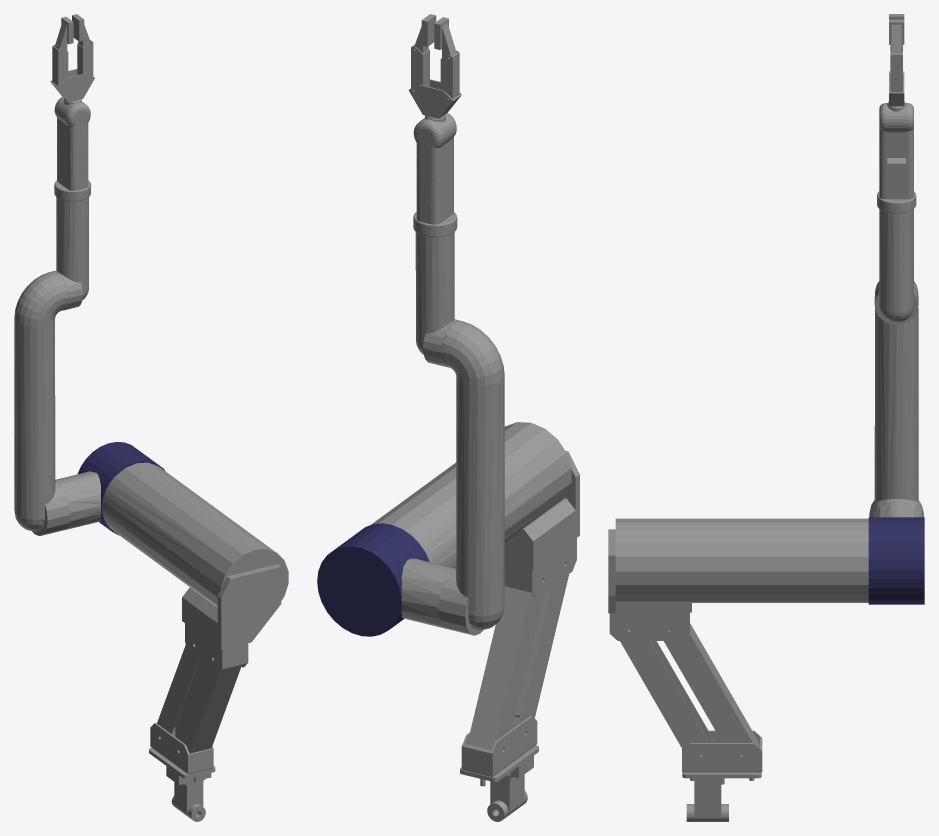
Rendered from exactdynamics-manusarmleft.dae.
The picture shows the model from 3 angles, left to right: view 1: azimuth 30°, elevation 25°; view 2: azimuth 150°, elevation 25°; view 3: azimuth 270°, elevation 25°; orthographic projection. The views are drawn at different scales.
Visible parts, largest first — view 1: left-arm1 (×2), l-lift-arm, left-arm2, left-arm3, left-arm4, left-hand-base, left-hand-proximal-r, left-hand-proximal-l; view 2: left-arm1 (×2), l-lift-arm, left-arm2, left-arm3, left-arm4, left-hand-base, left-hand-proximal-r, left-hand-proximal-l, left-hand-distal-r, left-hand-distal-l; view 3: left-arm1 (×2), l-lift-arm, left-arm2, left-arm3, left-arm4.
Boxes of the visible parts, x1,y1,x2,y2 form: left-arm1 (×2): (55,442,288,605); l-lift-arm: (149,557,282,821); left-arm2: (14,271,70,535); left-arm3: (52,197,88,310); left-arm4: (54,97,91,201); left-hand-base: (50,69,94,104); left-hand-proximal-r: (52,44,68,85); left-hand-proximal-l: (77,40,93,78); left-arm1 (×2): (317,422,571,636); l-lift-arm: (460,451,579,821); left-arm2: (438,320,504,635); left-arm3: (415,232,458,366); left-arm4: (413,112,457,237); left-hand-base: (408,79,461,122); left-hand-proximal-r: (440,50,459,99); left-hand-proximal-l: (411,44,429,90); left-hand-distal-r: (434,17,456,58); left-hand-distal-l: (414,14,436,53); left-arm1 (×2): (615,501,924,604); l-lift-arm: (608,529,762,821); left-arm2: (869,281,923,517); left-arm3: (874,209,918,324); left-arm4: (877,103,916,213).
Bounding box in the file's own units: 0.2801 × 0.507 × 1.39.
